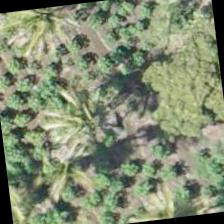Kelapa_Sawit: (38, 66, 138, 166), (0, 3, 92, 78), (6, 162, 68, 223)
